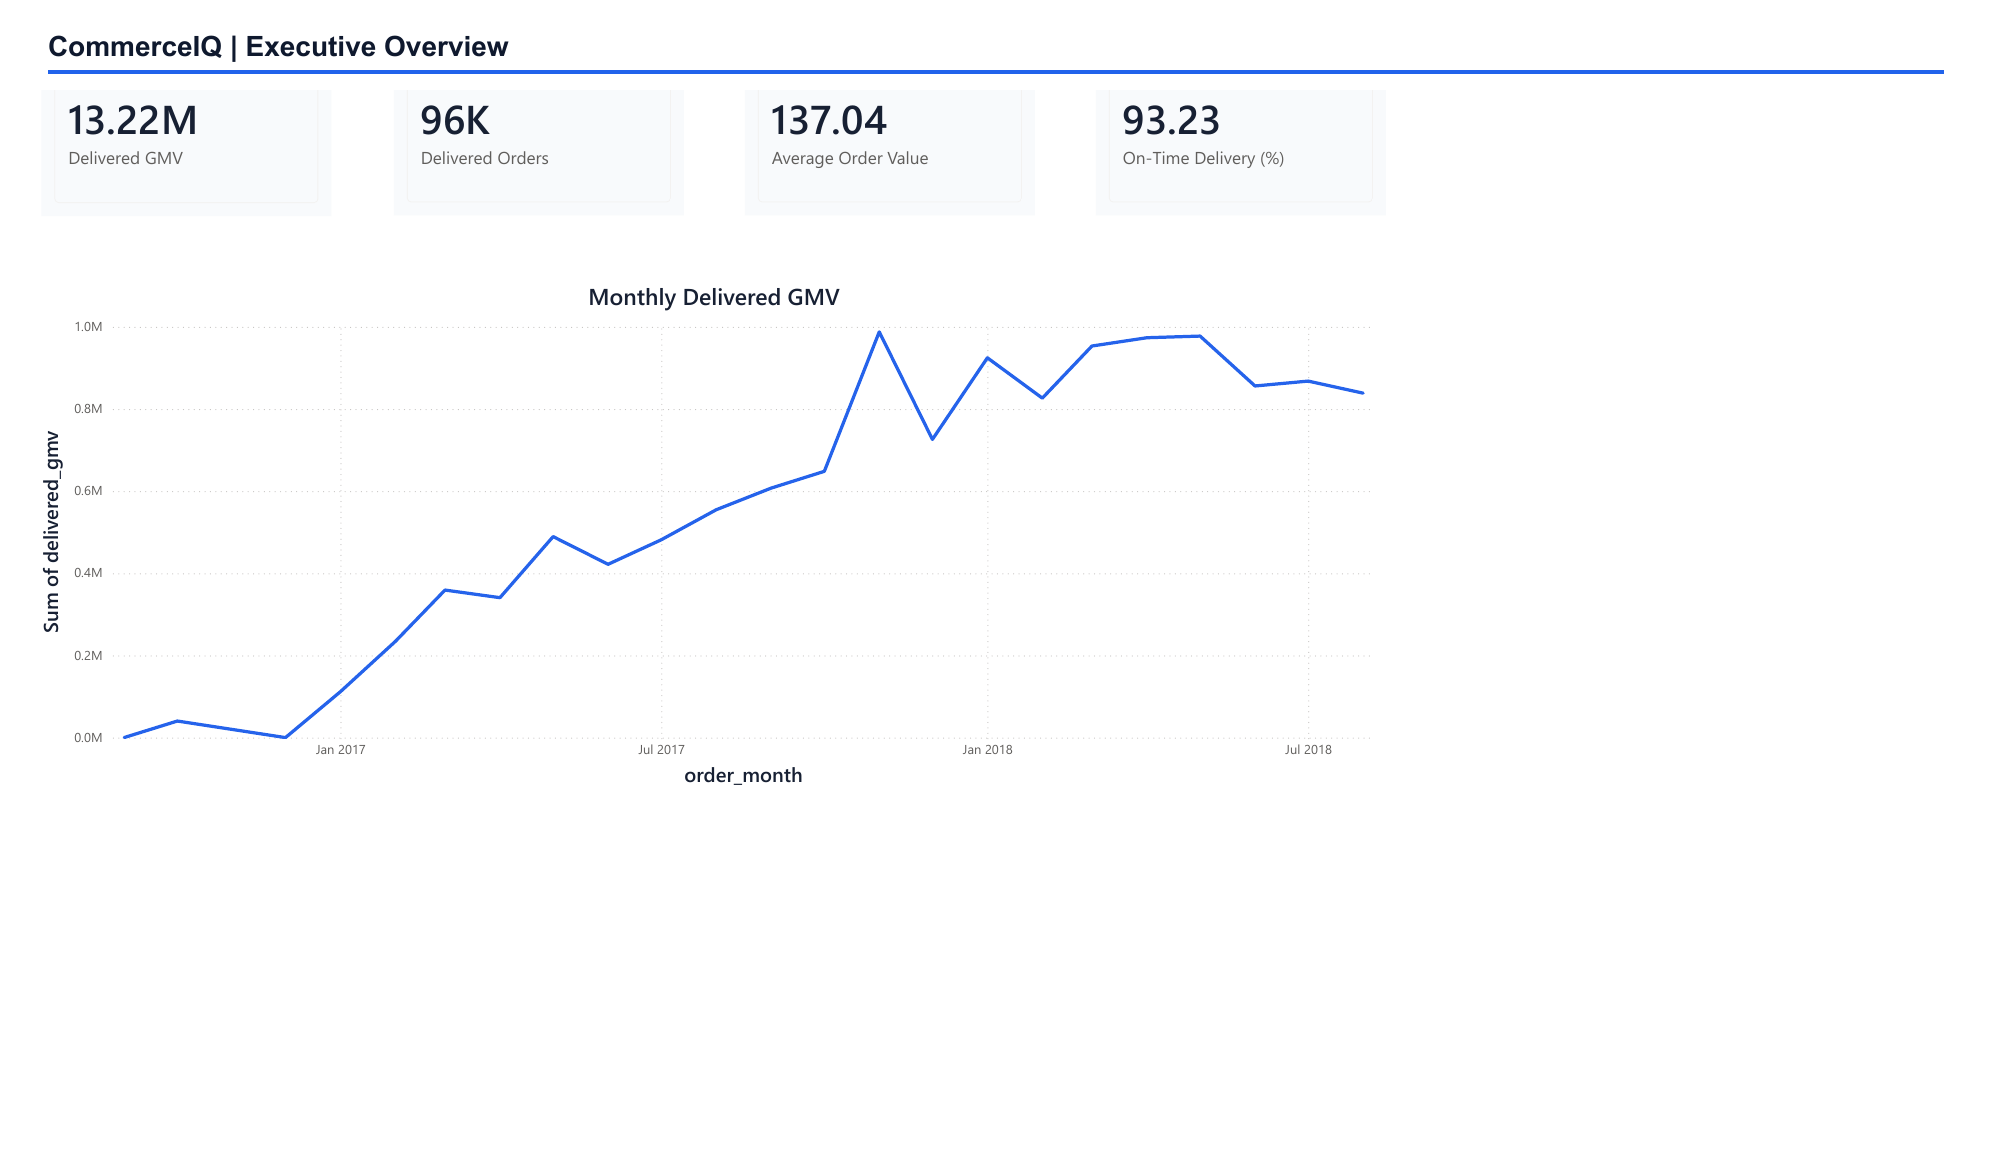

The dashboard page shown, as its layout file describes it:
{"tool":"powerbi","page":{"name":"Executive Overview","canvas":[1280,720],"ordinal":0},"visuals":[{"type":"cardVisual","fields":{"Data":["Sum(CommerceIQTable1.delivered_gmv)"]},"box":[0,0,279.6,172.2],"z":0},{"type":"cardVisual","fields":{"Data":["Sum(CommerceIQTable1.delivered_orders)"]},"box":[327.3,1.7,279.6,170.5],"z":1000},{"type":"cardVisual","fields":{"Data":["Sum(CommerceIQTable1.delivered_average_order_value)"]},"box":[652.9,1.7,279.6,170.5],"z":2000},{"type":"cardVisual","fields":{"Data":["Sum(CommerceIQTable1.on_time_delivery_rate_pct)"]},"box":[978.4,1.7,279.6,170.5],"z":3000},{"type":"lineChart","title":"Monthly Delivered GMV","fields":{"Category":["CommerceIQTable2.order_month"],"Y":["Sum(CommerceIQTable2.delivered_gmv)"]},"box":[0,226.7,1258,475.6],"z":4000}]}

Visuals, with their boxes in screenshot pixels (x1, y1, x2, y2), scaled from the page's 1280x720 canvas onto the 1992x1152 screenshot:
cardVisual - Sum(CommerceIQTable1.delivered_gmv): bbox=[0, 0, 435, 276]
cardVisual - Sum(CommerceIQTable1.delivered_orders): bbox=[509, 3, 944, 276]
cardVisual - Sum(CommerceIQTable1.delivered_average_order_value): bbox=[1016, 3, 1451, 276]
cardVisual - Sum(CommerceIQTable1.on_time_delivery_rate_pct): bbox=[1523, 3, 1958, 276]
"Monthly Delivered GMV" lineChart: bbox=[0, 363, 1958, 1124]
